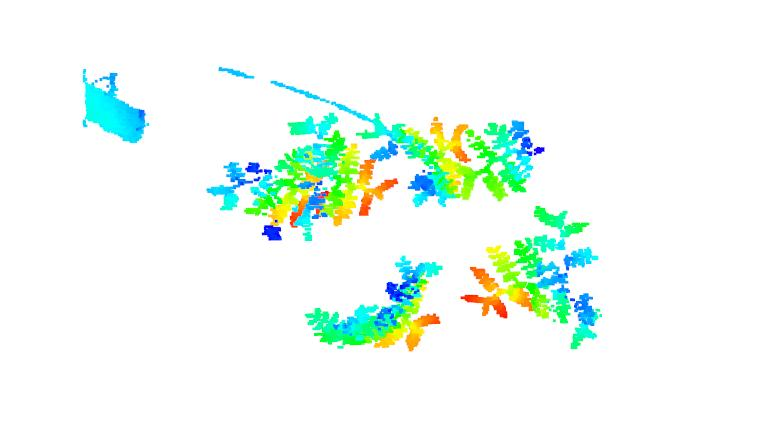chickpea: (463, 205, 605, 349), (283, 113, 395, 223), (362, 108, 471, 211), (205, 155, 327, 243), (464, 118, 547, 205), (376, 256, 442, 354), (306, 299, 376, 360)
